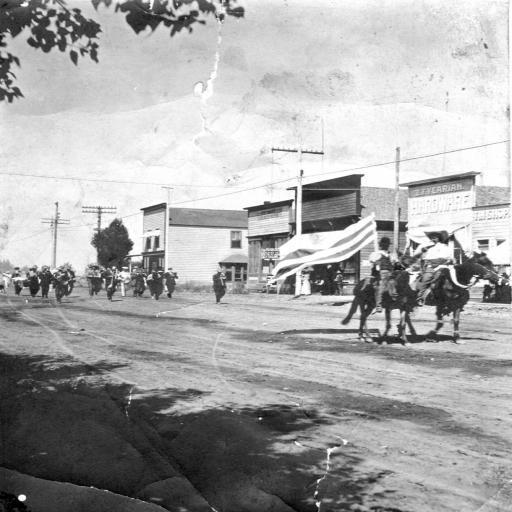horse: (405, 249, 501, 347), (336, 248, 422, 346)
